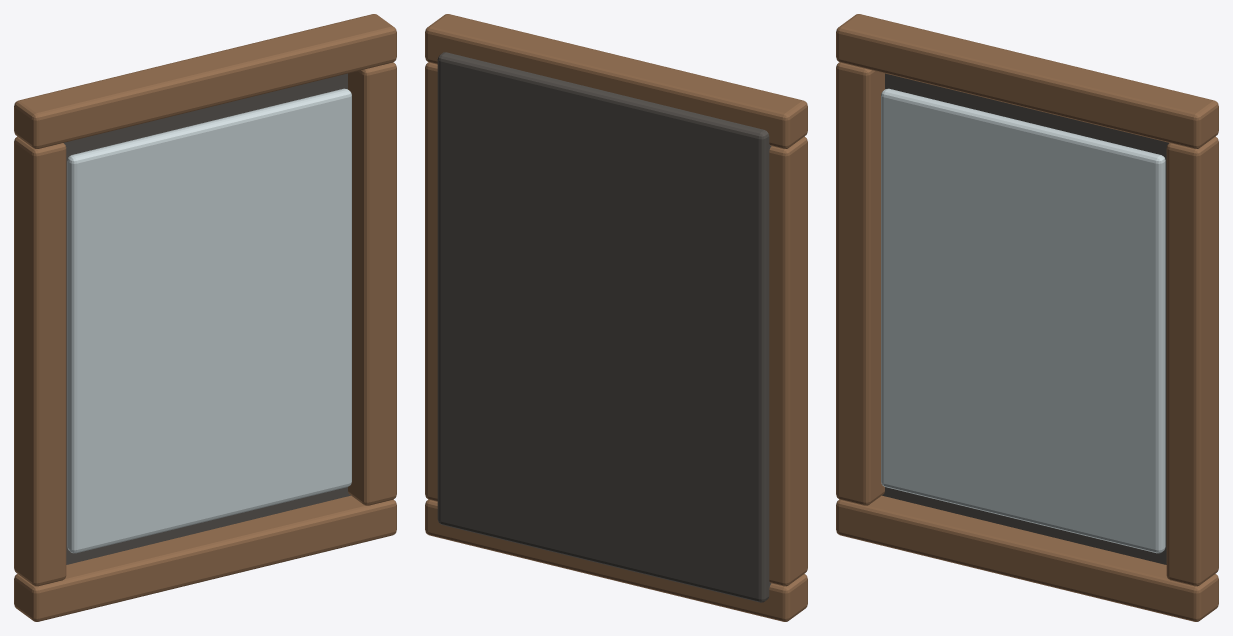
Rendered from minimal-picture-frame-01.glb.
The picture shows the model from 3 angles, left to right: view 1: azimuth 30°, elevation 25°; view 2: azimuth 150°, elevation 25°; view 3: azimuth 330°, elevation 25°; orthographic projection.
Visible parts, largest first — view 1: minimal-picture-frame-01; view 2: minimal-picture-frame-01; view 3: minimal-picture-frame-01.
Part boxes in pixels (x1,y1,x2,y2): minimal-picture-frame-01: (14,14,396,621); minimal-picture-frame-01: (425,14,807,621); minimal-picture-frame-01: (836,14,1218,621).
Size of the model in its own units: 0.3 by 0.4 by 0.04.
